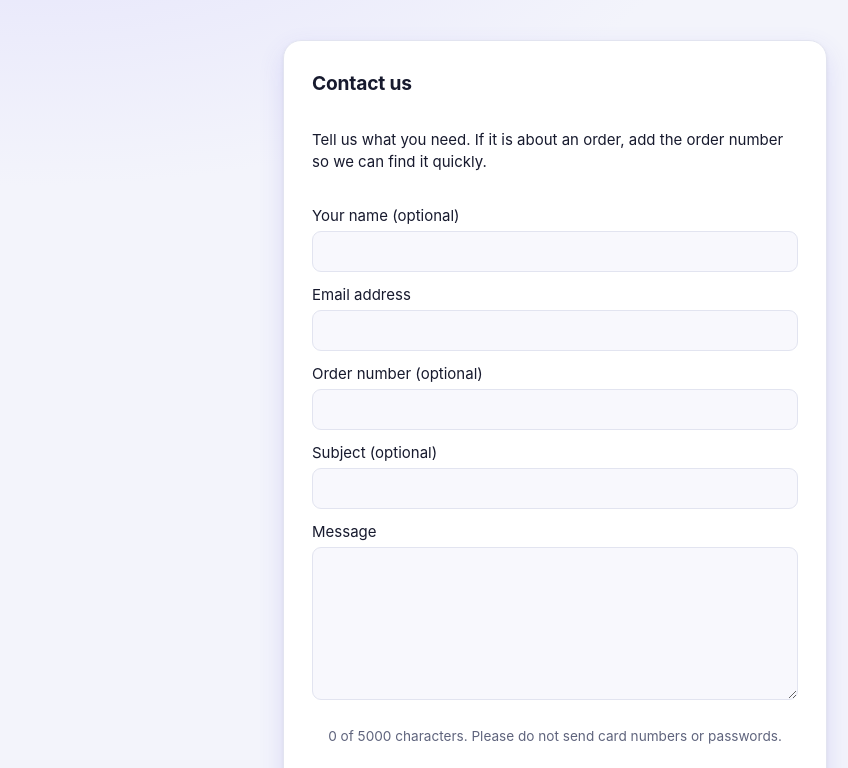
it: the customer contact page › sends the details and the order number to the public form endpoint
This screenshot has width=848, height=768.
Type "Asha" into the field labelled "Your name (optional)".
click(555, 252); type("Asha")  # box [312,231,798,272]
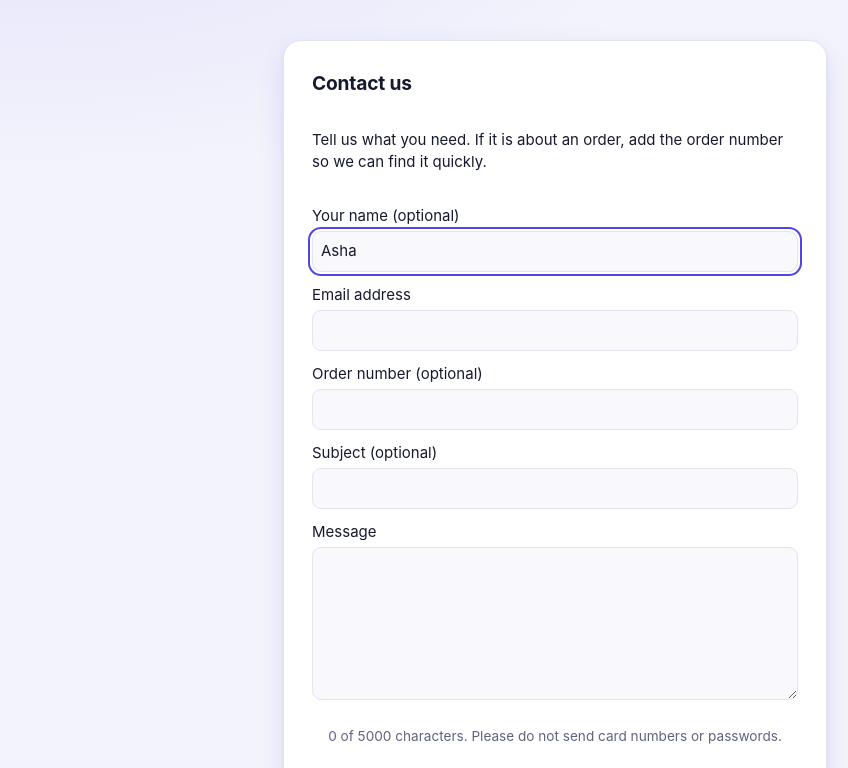
Type "asha@example.com" into the field labelled "Email address".
click(555, 331); type("asha@example.com")  # box [312,310,798,351]
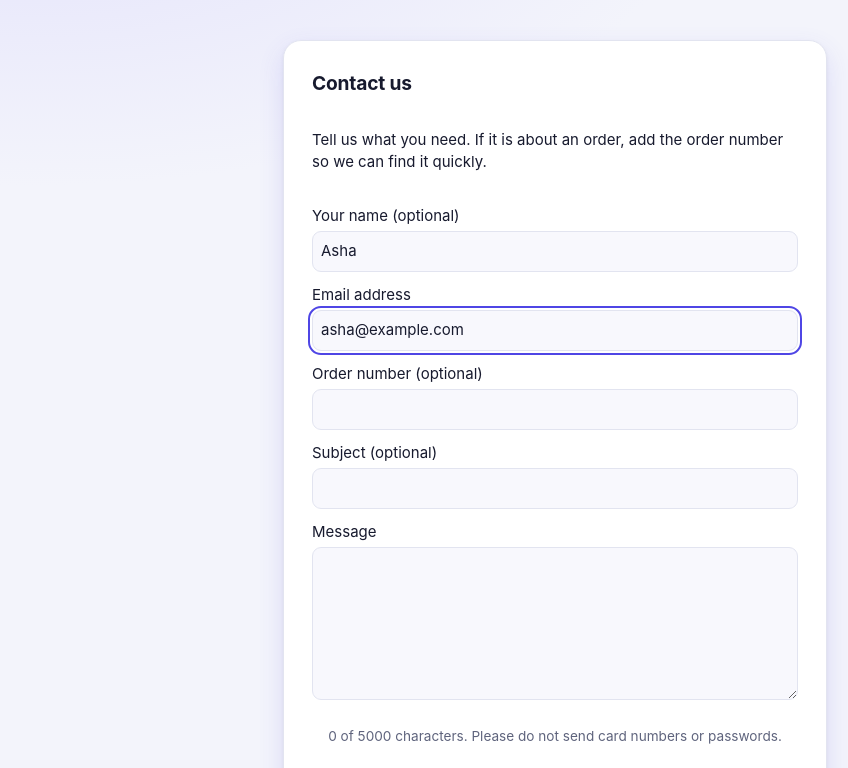
Type "RD-10001" into the field labelled "Order number (optional)".
click(555, 410); type("RD-10001")  # box [312,389,798,430]
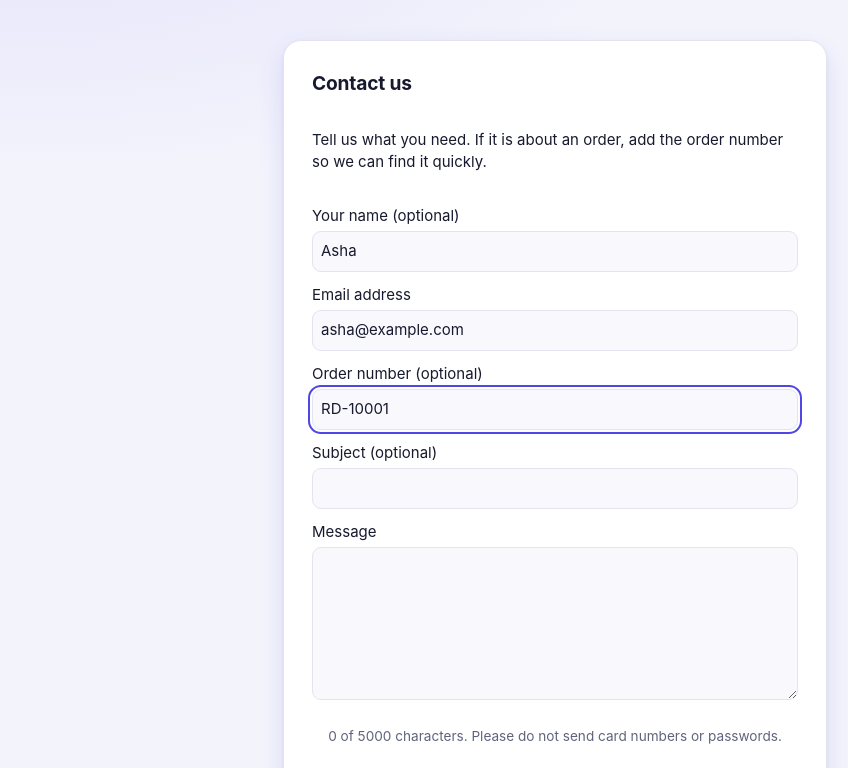
Type "Where is it?" into the field labelled "Subject (optional)".
click(555, 489); type("Where is it?")  # box [312,468,798,509]
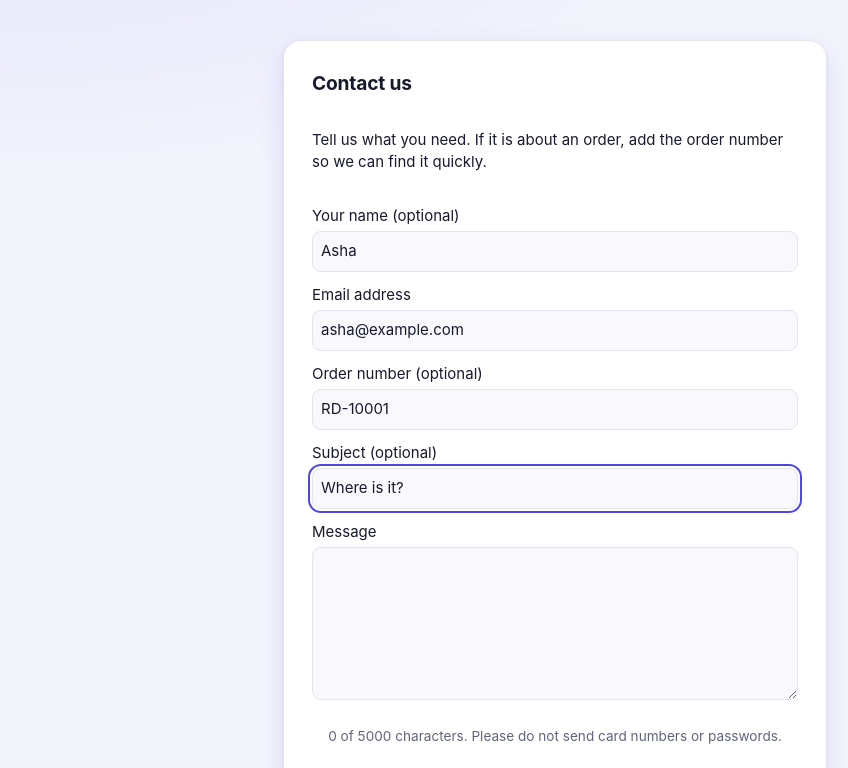
Type "My order has not arrived." into the text box labelled "Message".
click(555, 624); type("My order has not arrived.")  # box [312,547,798,700]
(page scrolled)
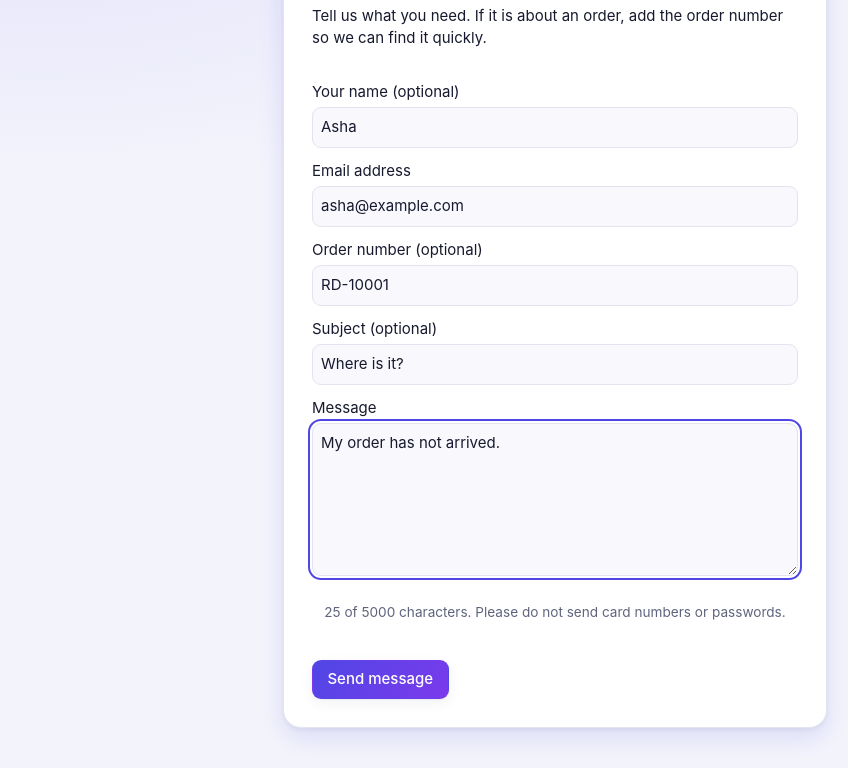
Click the button "Send message".
click(380, 679)  # box [312,660,448,699]
(page scrolled)
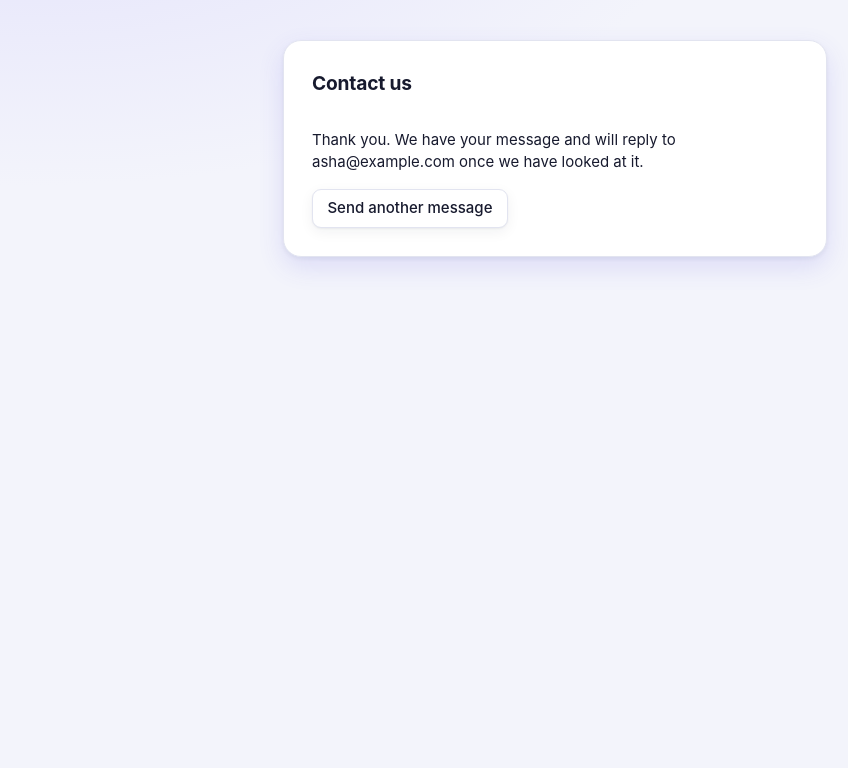
Now the text "We have your message" is shown, box [312,130,676,171]
